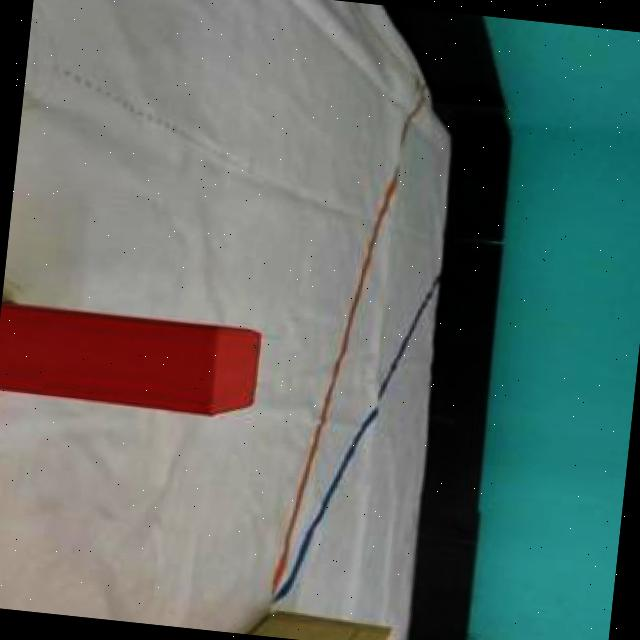redbox: (0, 301, 261, 417)
